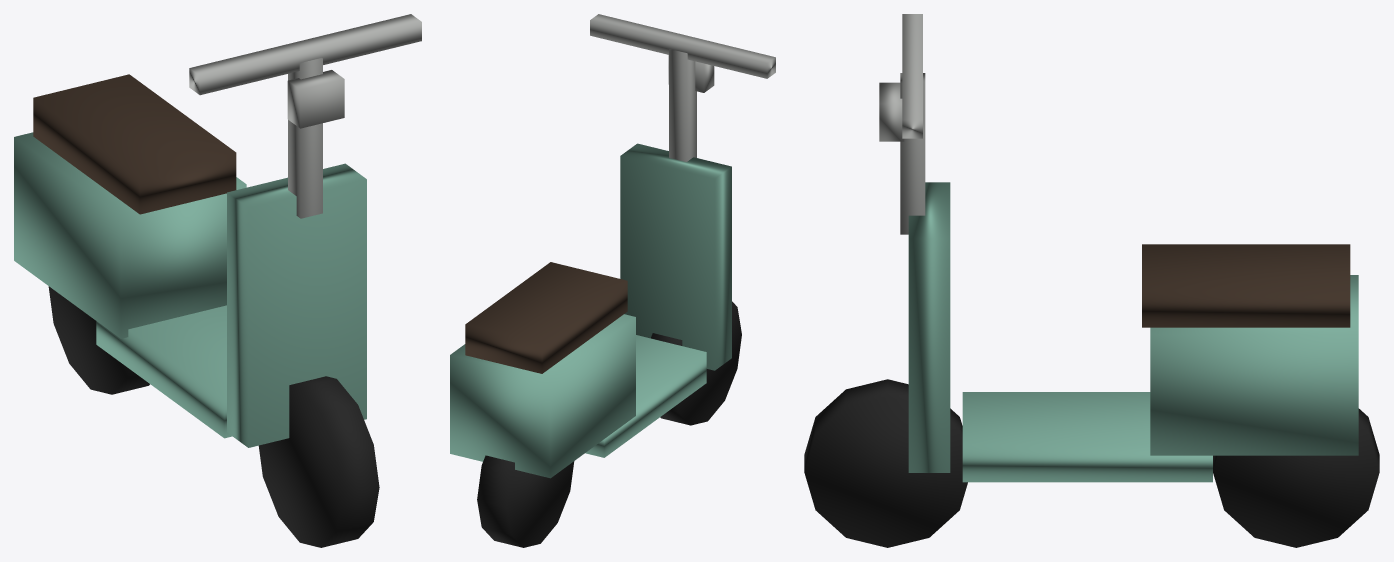
File: street_scooter_mint.glb
The picture shows the model from 3 angles, left to right: view 1: azimuth 30°, elevation 25°; view 2: azimuth 150°, elevation 25°; view 3: azimuth 270°, elevation 25°; orthographic projection. The views are drawn at different scales.
Visible parts, largest first — view 1: street_scooter_mint; view 2: street_scooter_mint; view 3: street_scooter_mint.
Part boxes in pixels (x1,y1,x2,y2): street_scooter_mint: (14,14,421,547); street_scooter_mint: (450,14,775,547); street_scooter_mint: (804,14,1379,547).
Size of the model in its own units: 0.6 by 1.25 by 1.38.
